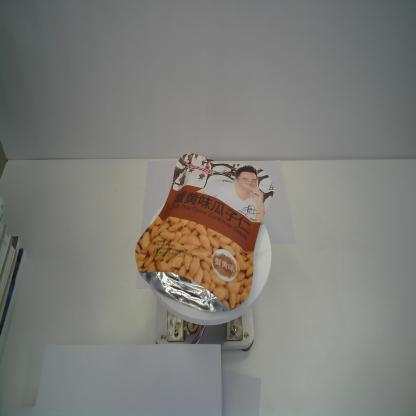Dried Fruit: (134, 153, 275, 313)
